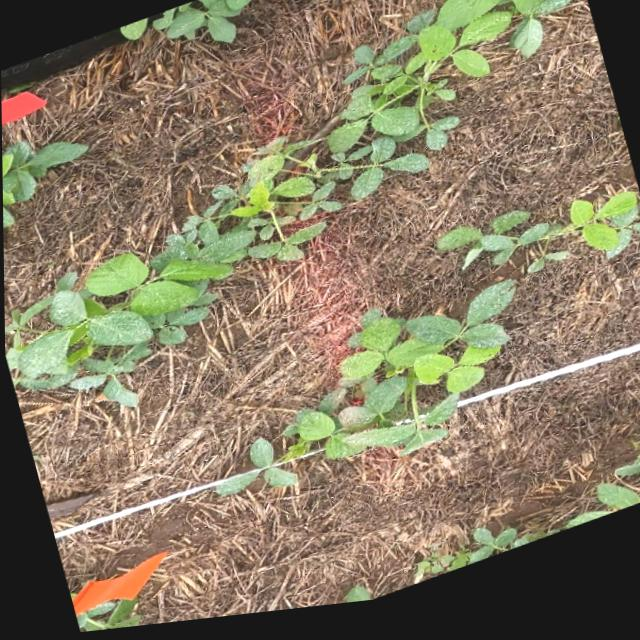soy_plant: (4, 0, 581, 408), (279, 290, 513, 468), (412, 497, 640, 591), (437, 205, 640, 286), (2, 142, 87, 226), (153, 0, 255, 48), (213, 445, 291, 500), (74, 602, 137, 634), (120, 23, 144, 41), (343, 594, 368, 611)
